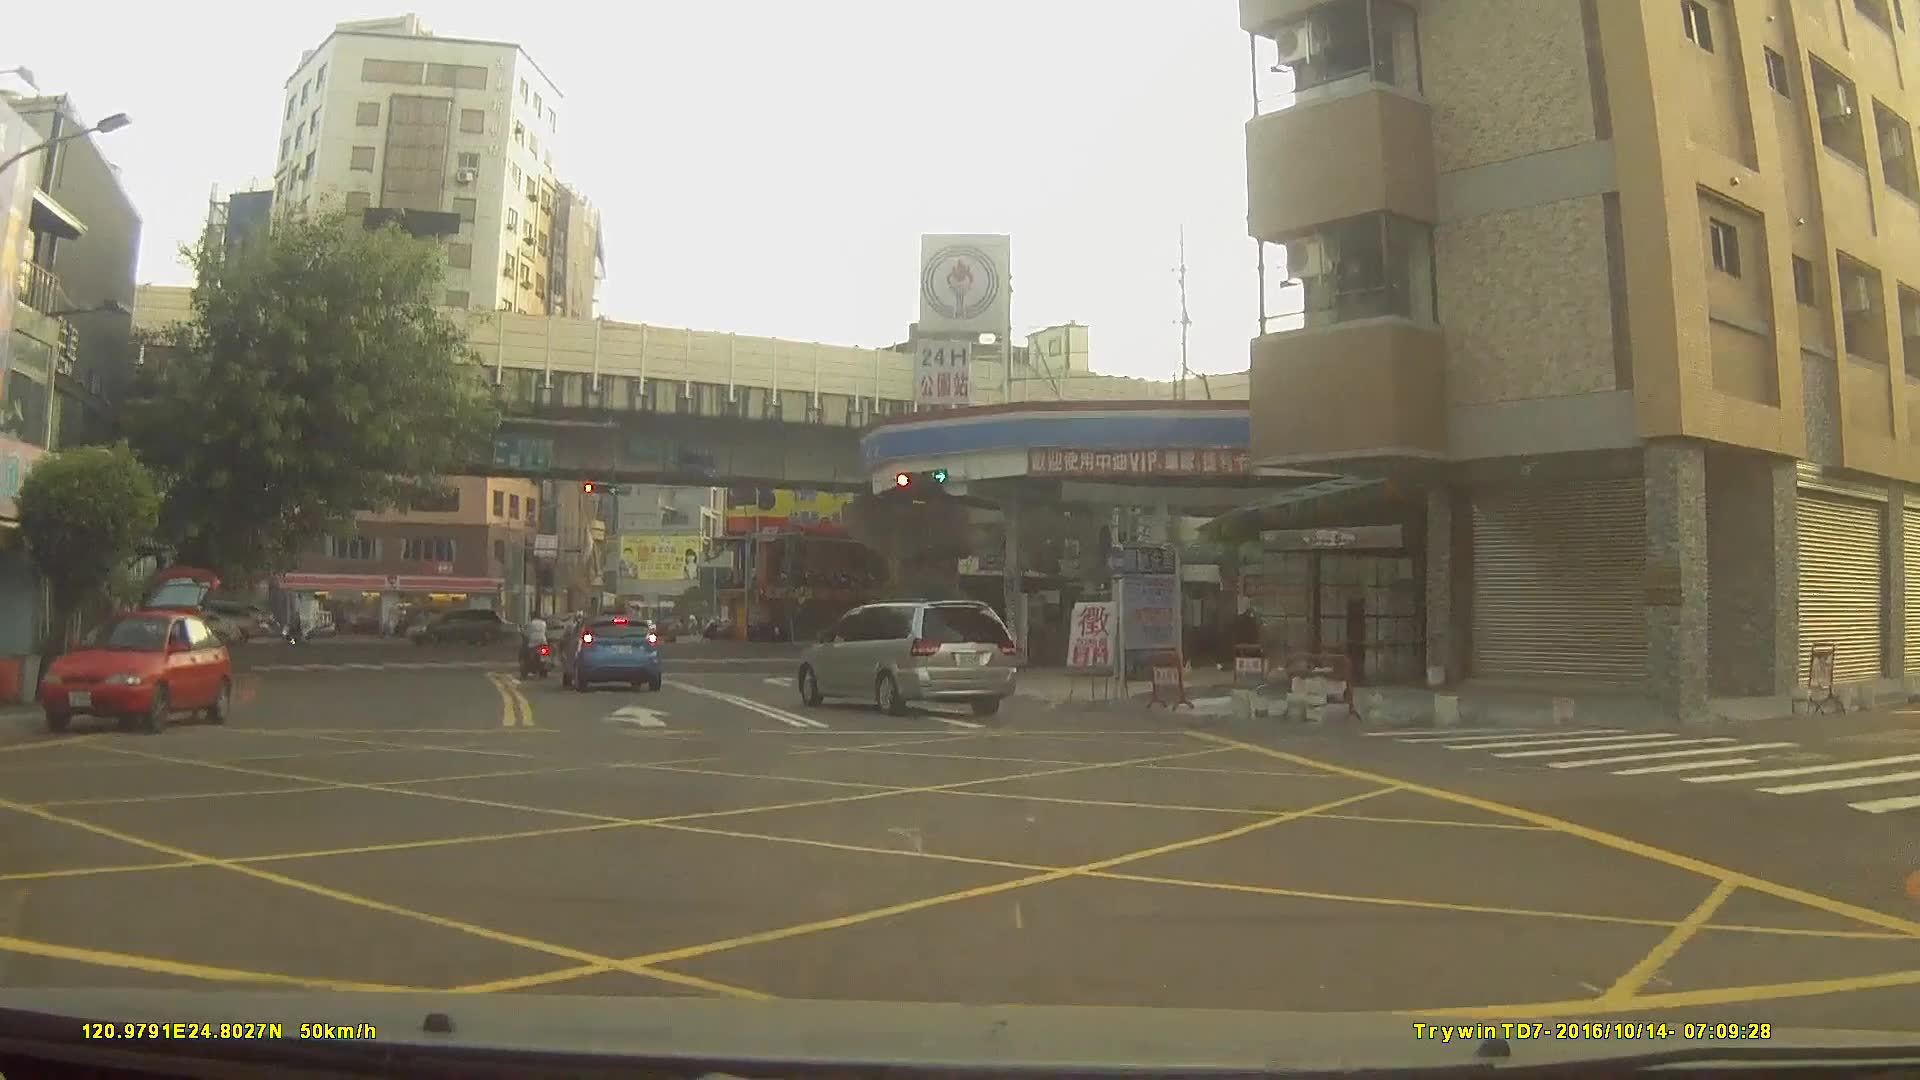rider: (518, 608, 555, 675), (280, 614, 310, 650)
vehicle: (801, 595, 1019, 713), (36, 606, 234, 731), (557, 616, 661, 694), (404, 607, 506, 645), (534, 604, 613, 640)
